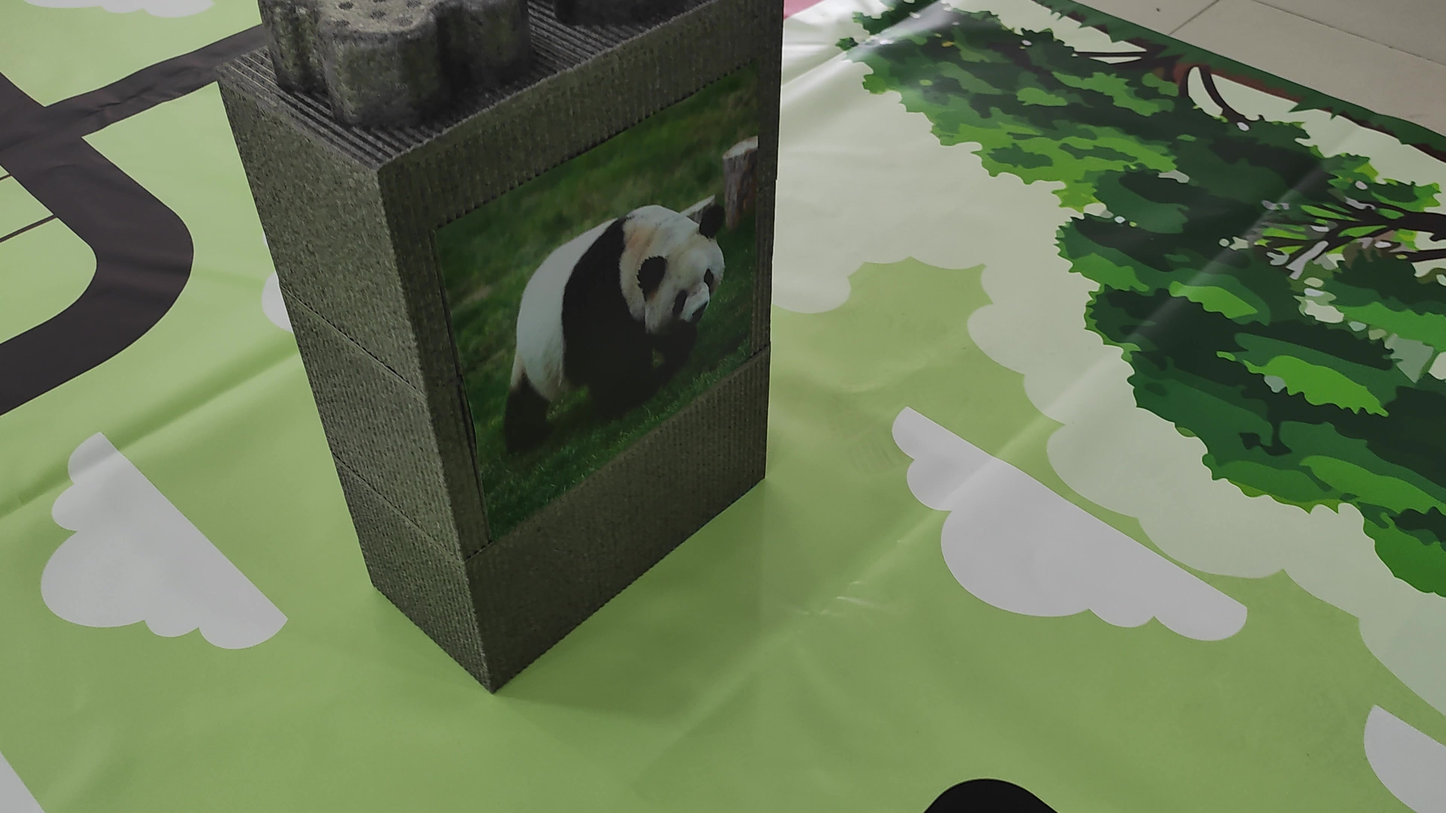panda: (474, 164, 758, 431)
